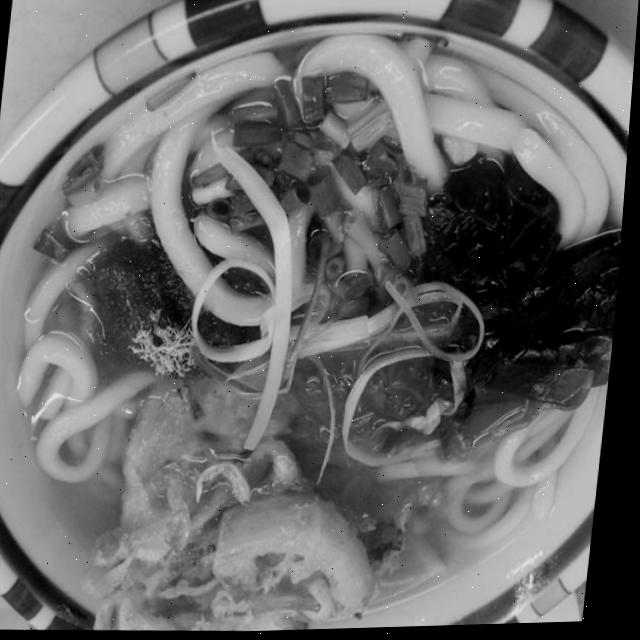面条主食: (4, 26, 638, 639)
